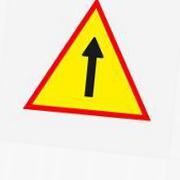forward: (22, 1, 153, 120)
